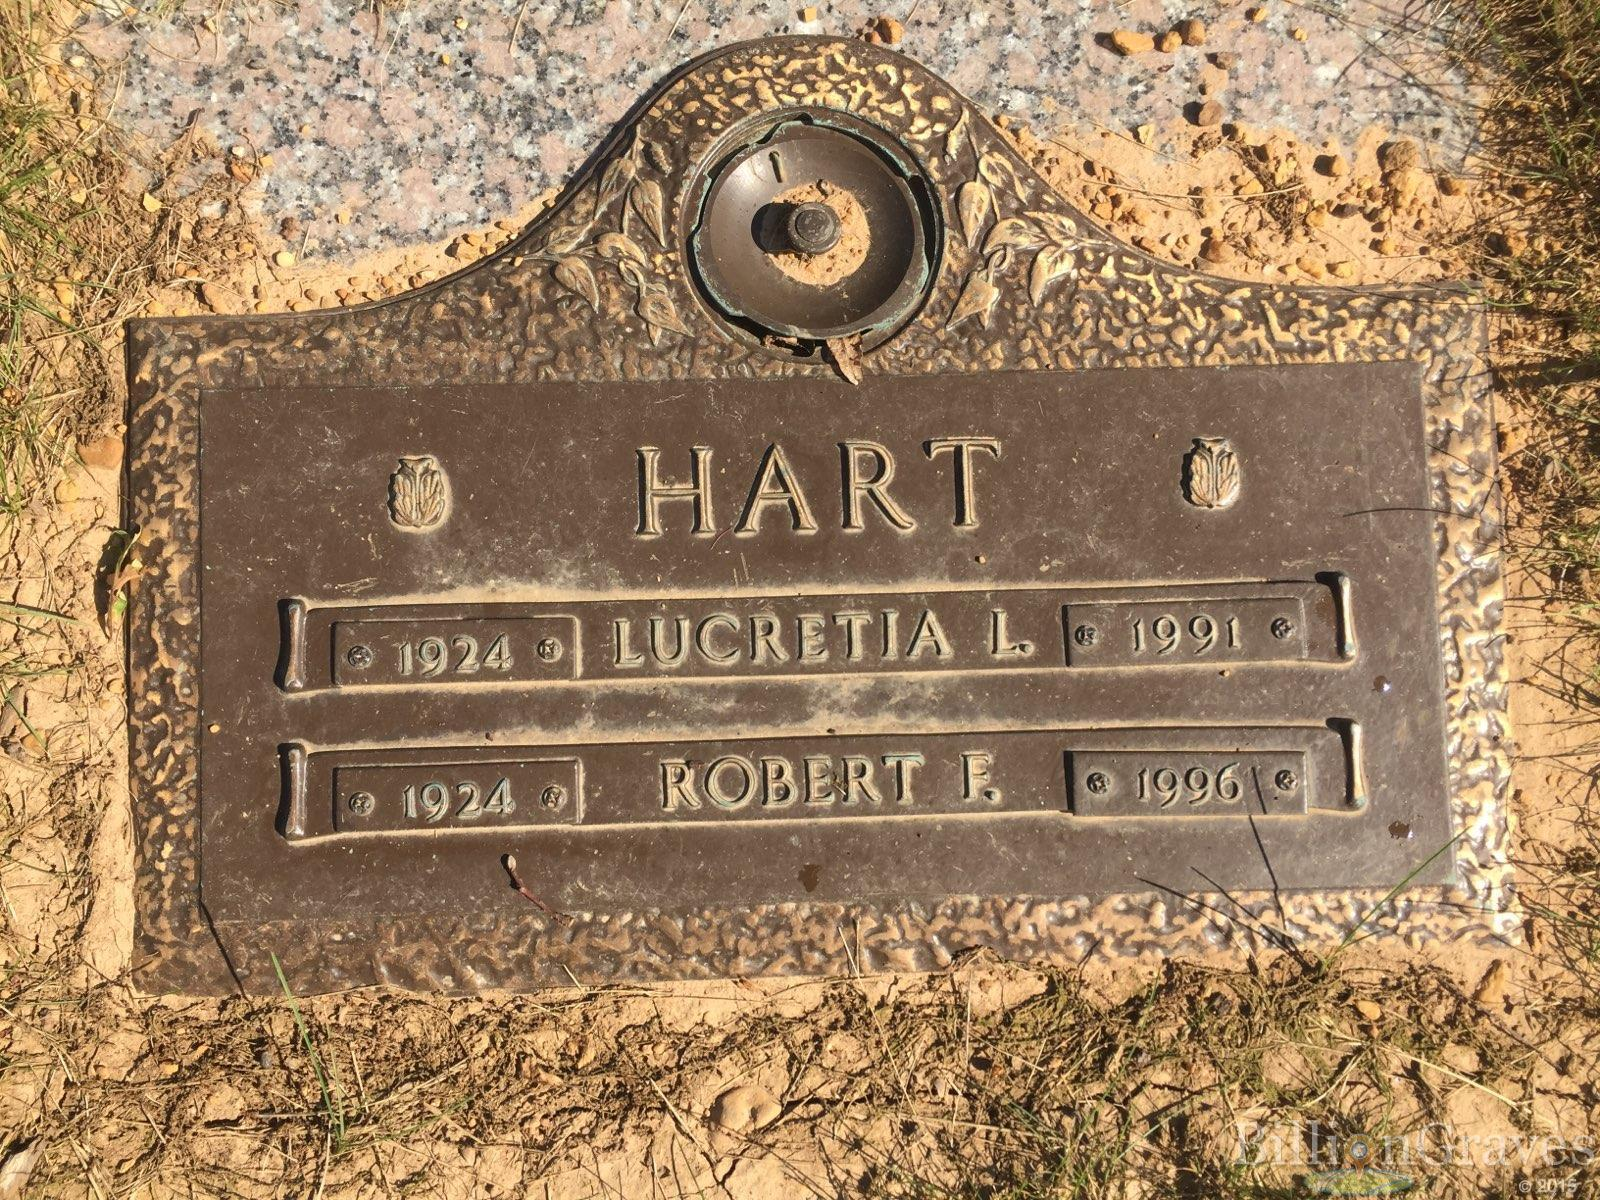plaque: (31, 15, 1558, 1129)
